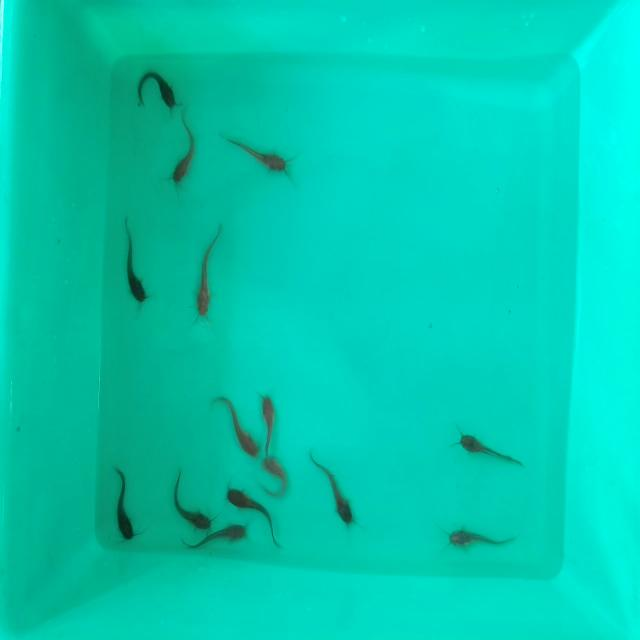lele: (218, 133, 286, 172), (105, 467, 139, 538), (222, 396, 258, 461), (124, 222, 151, 306), (456, 432, 526, 463), (171, 113, 196, 189), (196, 233, 218, 319), (182, 522, 248, 550), (168, 492, 215, 528), (324, 468, 353, 526), (144, 68, 182, 111), (224, 486, 273, 518), (257, 391, 279, 456), (448, 526, 515, 547), (261, 458, 288, 494)
